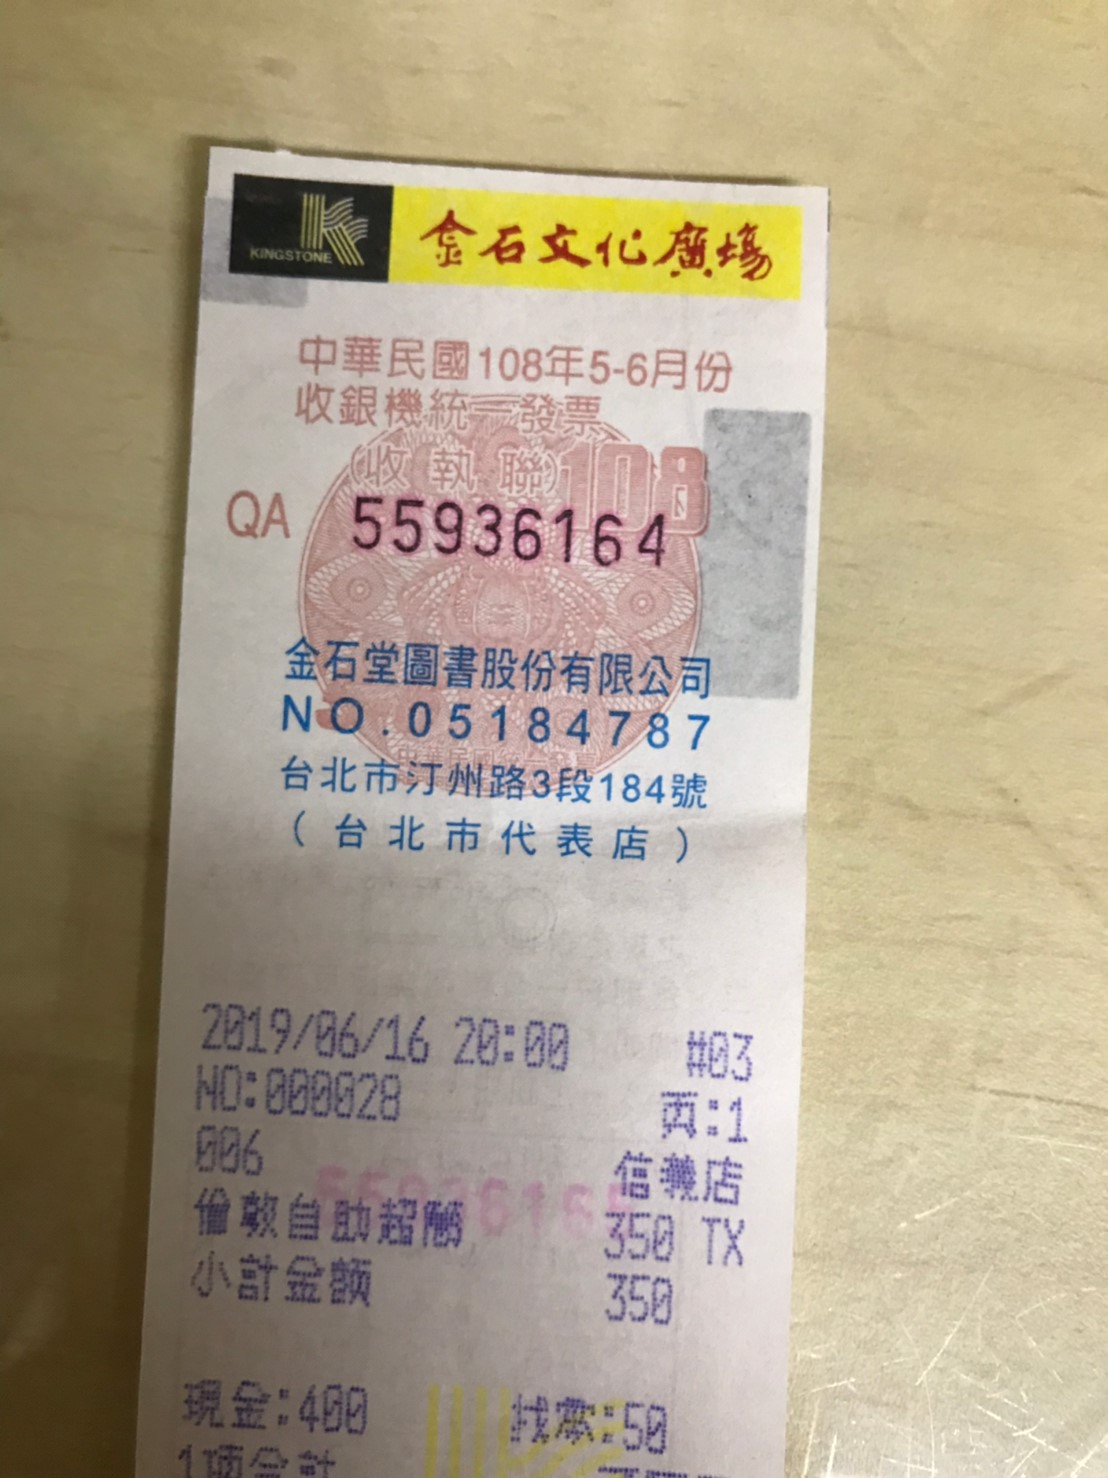Date_Old: (475, 341, 743, 399)
Number_Old: (347, 486, 673, 574)
